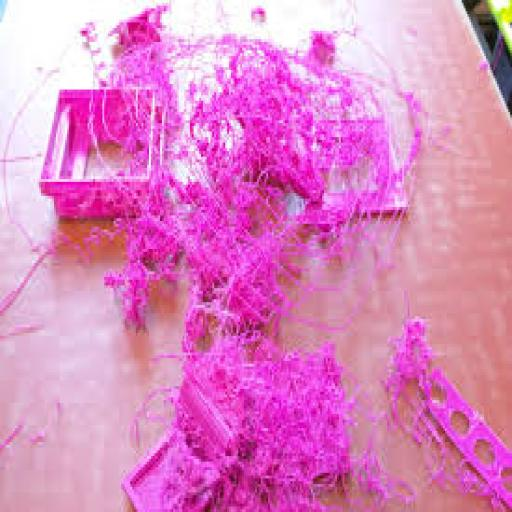spaghetti: (88, 38, 394, 404)
